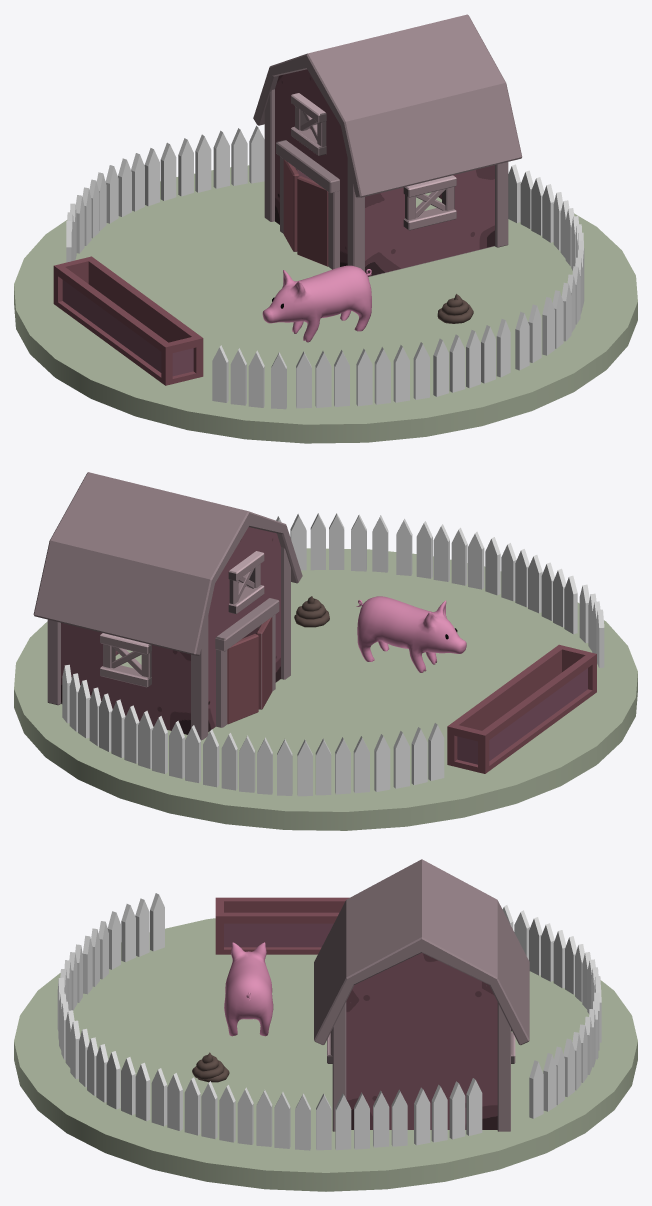
Rendered from ranch.fbx.
The picture shows the model from 3 angles, top to bottom: view 1: azimuth 30°, elevation 25°; view 2: azimuth 150°, elevation 25°; view 3: azimuth 270°, elevation 25°; orthographic projection.
Visible parts, largest first — view 1: Land_base, bulwarks.003, bulwarks.1, manger, Pig, Poop; view 2: Land_base, bulwarks.003, bulwarks.1, manger, Pig, Poop; view 3: Land_base, bulwarks.003, bulwarks.1, manger, Pig, Poop.
Boxes of the visible parts, <box> form: Land_base: <box>14,165,637,443</box>; bulwarks.003: <box>253,14,522,276</box>; bulwarks.1: <box>66,125,584,409</box>; manger: <box>53,256,203,385</box>; Pig: <box>262,265,371,342</box>; Poop: <box>437,294,473,323</box>; Land_base: <box>14,548,637,830</box>; bulwarks.003: <box>33,472,302,740</box>; bulwarks.1: <box>62,513,604,796</box>; manger: <box>447,644,596,773</box>; Pig: <box>356,596,466,672</box>; Poop: <box>294,596,329,627</box>; Land_base: <box>14,918,637,1191</box>; bulwarks.003: <box>314,859,529,1131</box>; bulwarks.1: <box>57,893,601,1150</box>; manger: <box>215,897,349,954</box>; Pig: <box>224,942,273,1036</box>; Poop: <box>192,1052,229,1082</box>.
Size of the model in its own units: 45 by 17.14 by 45.
